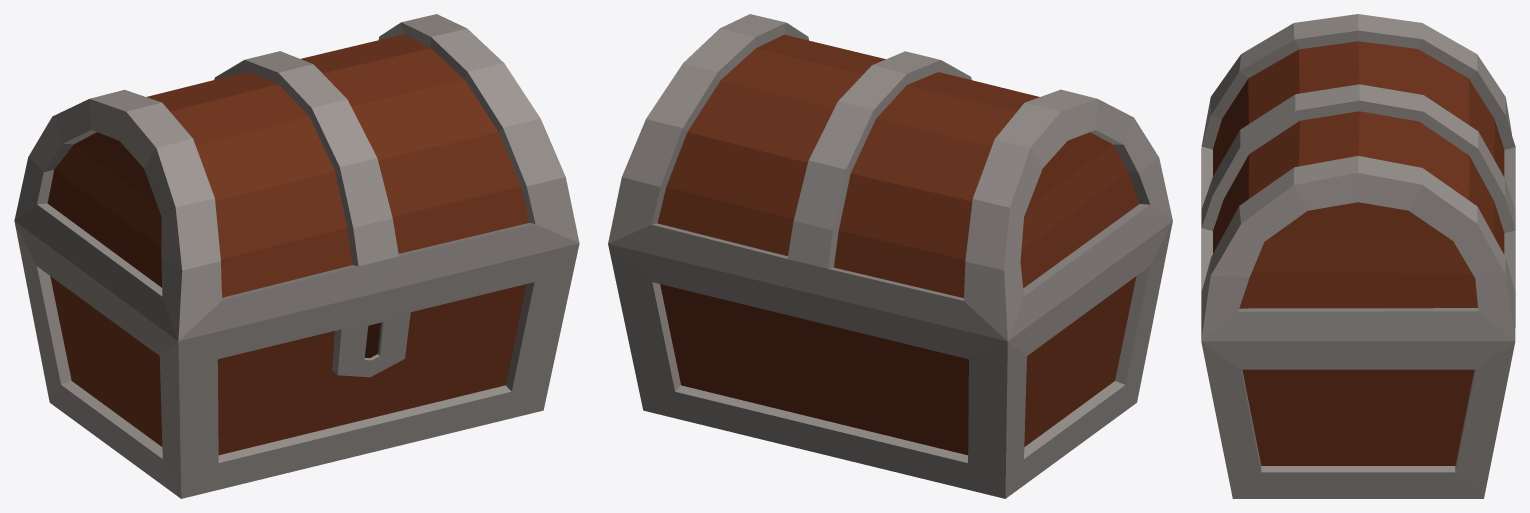
The model's file is Chest_closed.fbx.
The picture shows the model from 3 angles, left to right: view 1: azimuth 30°, elevation 25°; view 2: azimuth 150°, elevation 25°; view 3: azimuth 270°, elevation 25°; orthographic projection. The views are drawn at different scales.
Visible parts, largest first — view 1: Chest_closed; view 2: Chest_closed; view 3: Chest_closed.
Part boxes in pixels (x1=…): Chest_closed: x1=14, y1=14, x2=579, y2=498; Chest_closed: x1=608, y1=14, x2=1172, y2=498; Chest_closed: x1=1201, y1=14, x2=1515, y2=498.
Bounding box in the file's own units: 0.8354 × 0.6719 × 0.5945.
